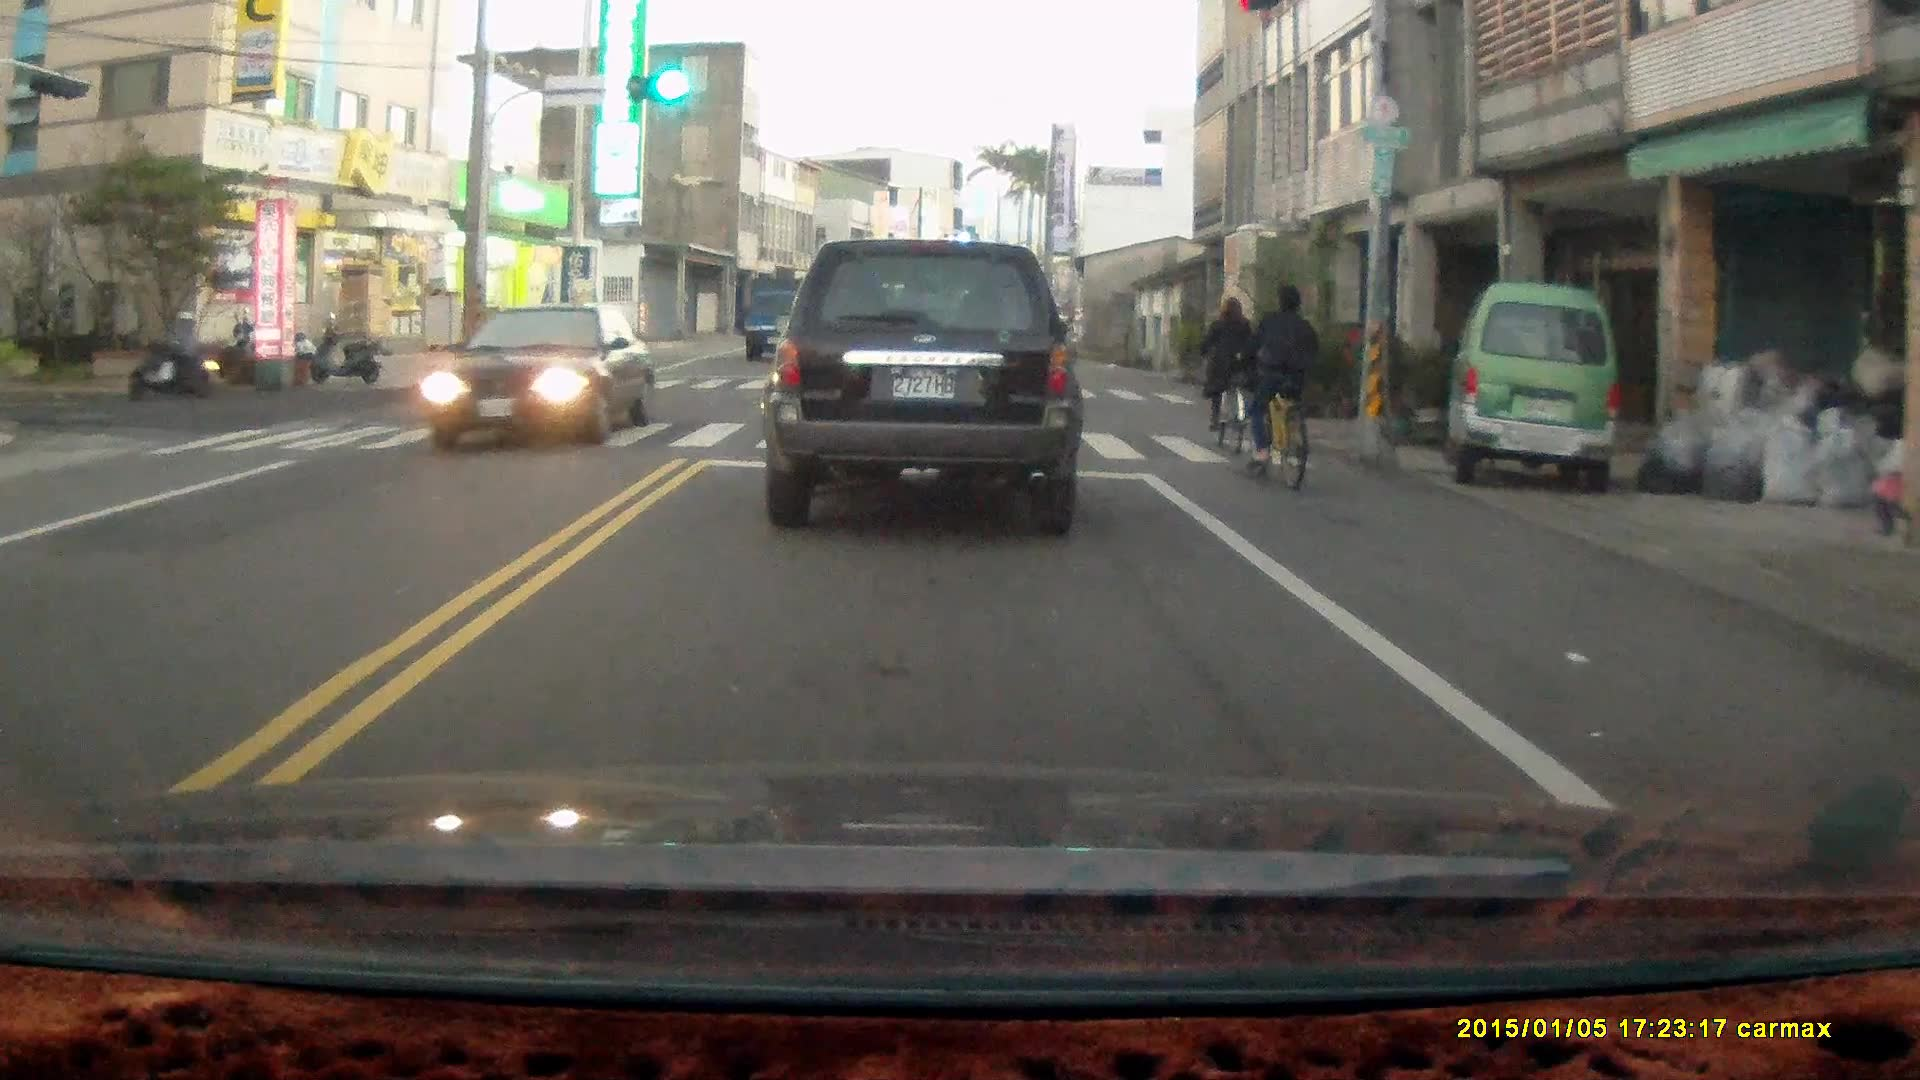rider: (1238, 280, 1321, 489), (1193, 295, 1255, 456), (126, 306, 216, 398)
vehicle: (762, 237, 1084, 537), (1446, 286, 1626, 496), (427, 302, 660, 452), (735, 277, 826, 362)
